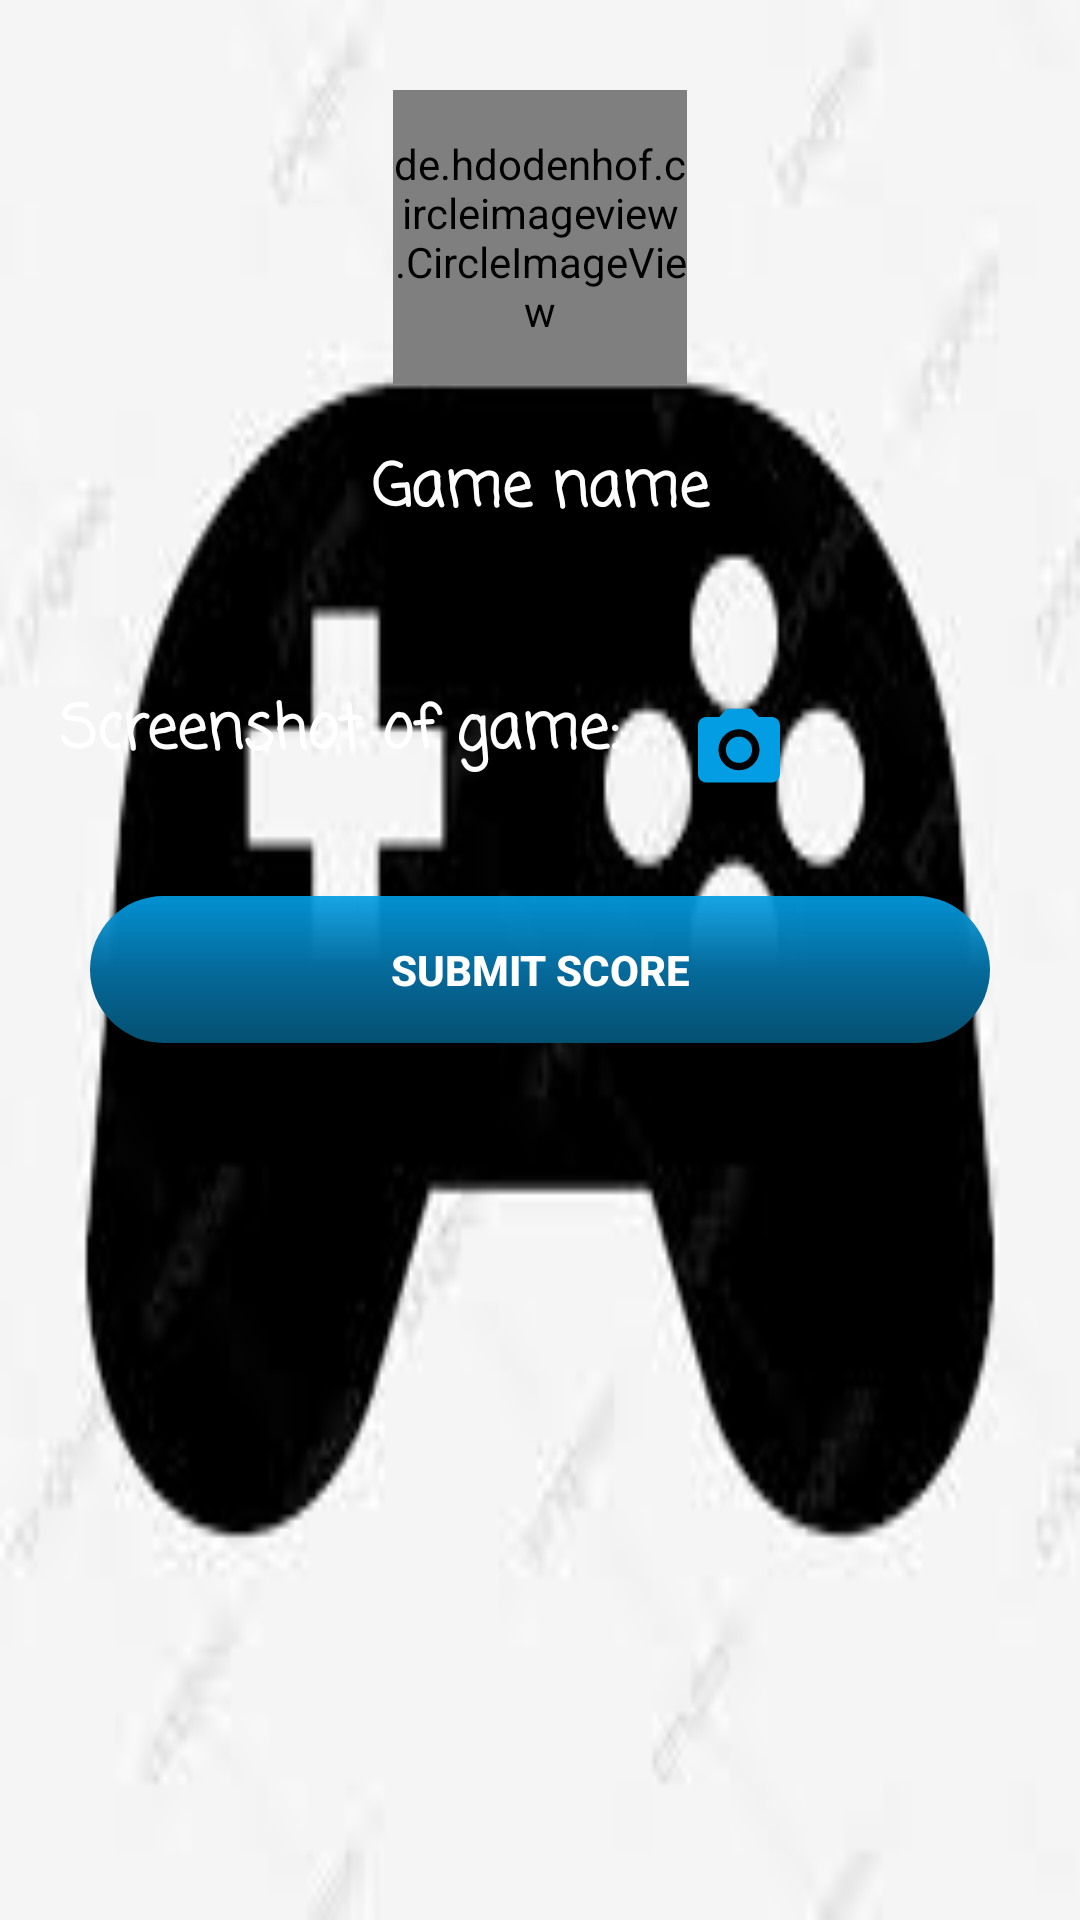

Icons on this 1080×1920 Android screen, each with the point to tap as point (x, y):
camera: point (739, 746)
